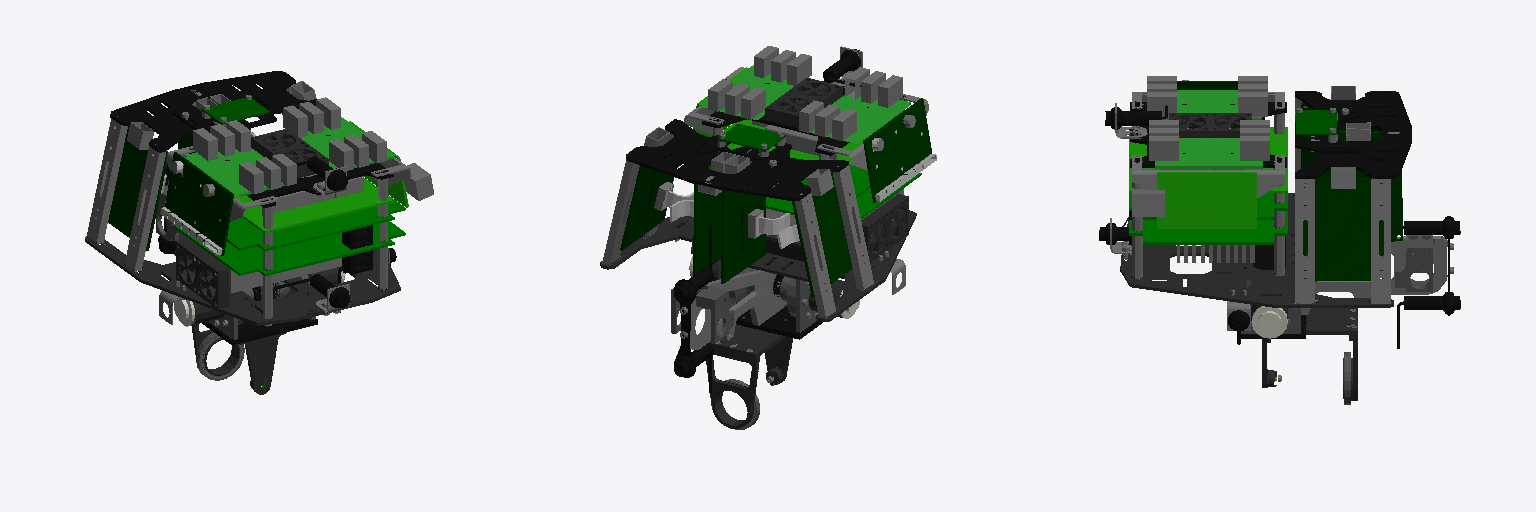
3 renders of one model, left to right at view 1: azimuth 30°, elevation 25°; view 2: azimuth 150°, elevation 25°; view 3: azimuth 270°, elevation 25°, orthographic.
Bounding box in the file's own units: 0.1625 × 0.1956 × 0.2174.
Materials: 1 (1 with a texture image).